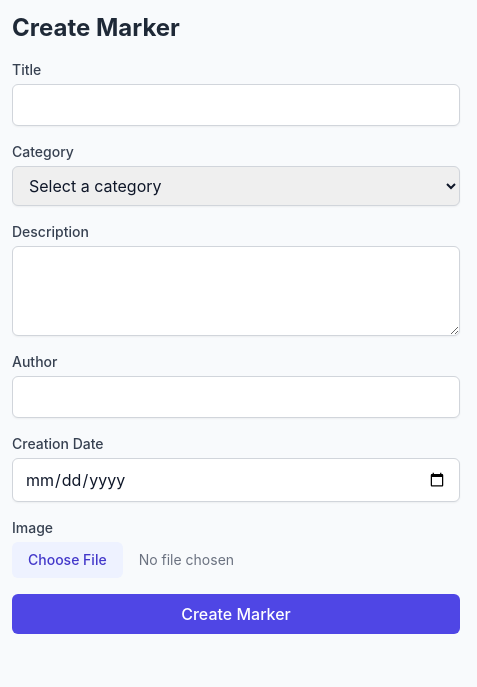
Test: MarkerForm › shows success message after successful creation
The width and height of the screenshot is (477, 687).
Type "Art" into the field labelled "Title" at (236, 105), box x1=12 y1=84 x2=460 y2=126
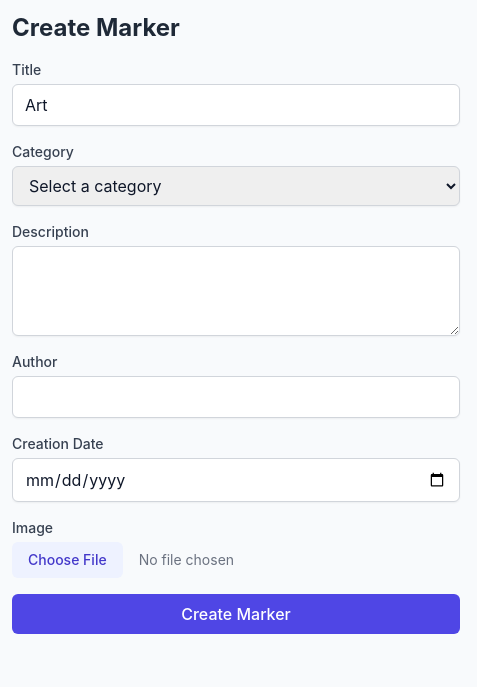
Select "Mural" in the dropdown labelled "Category" at (236, 186), box x1=12 y1=166 x2=460 y2=206
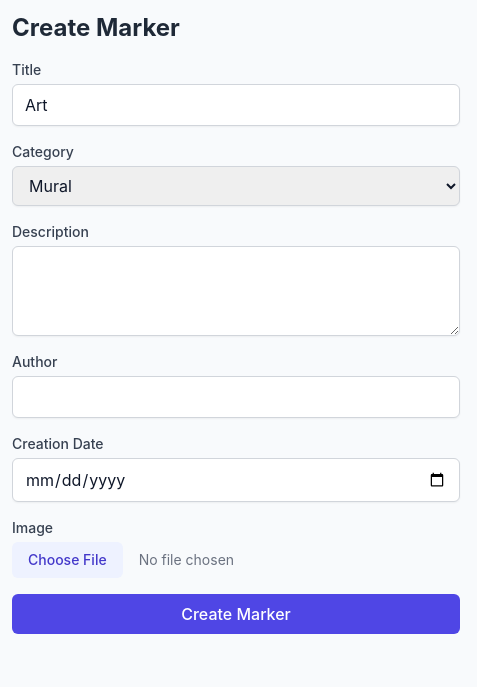
Click the button "Create Marker" at (236, 614), box x1=12 y1=594 x2=460 y2=634
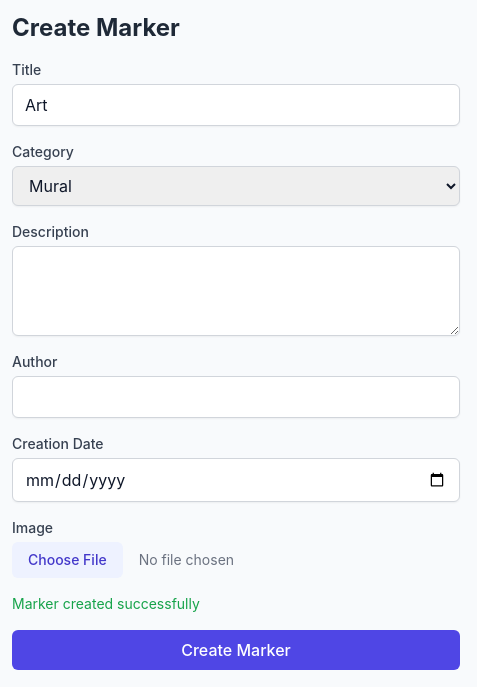
Expected: the text "Marker created successfully" is shown, x1=12 y1=595 x2=200 y2=612
